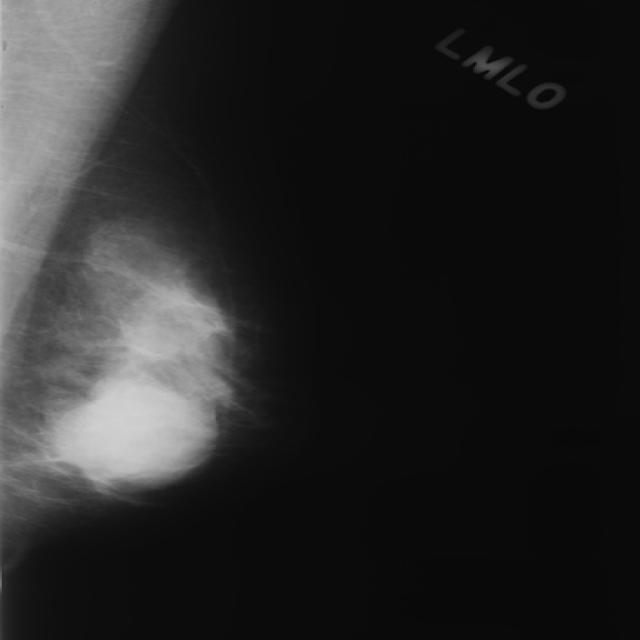tumour: (65, 383, 208, 479)
